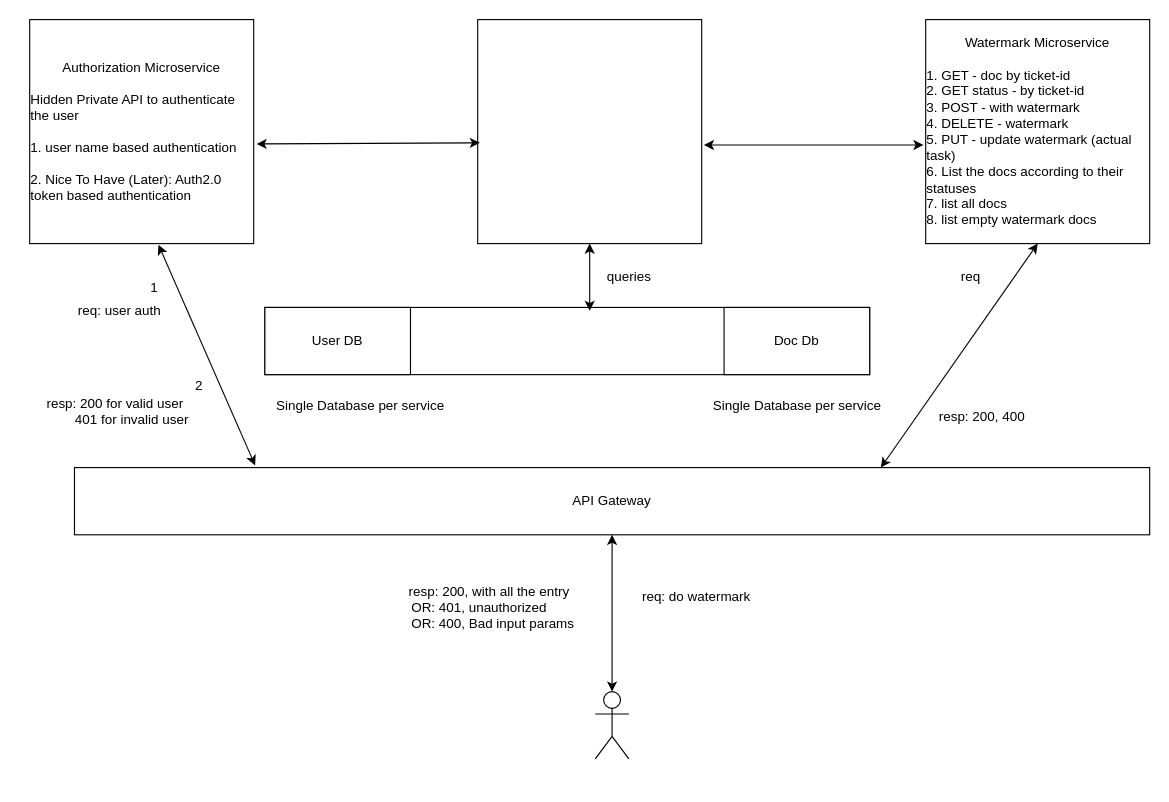
This 1169x802 diagram has some shape labels left out. Here are the shapes that lost their labels. From the top down, the box of each, then its label:
(477, 18, 702, 244): Database Microservice Use ORM or simple bare f/w
(264, 306, 870, 375): MongoDB Server
(594, 690, 629, 759): Actor
